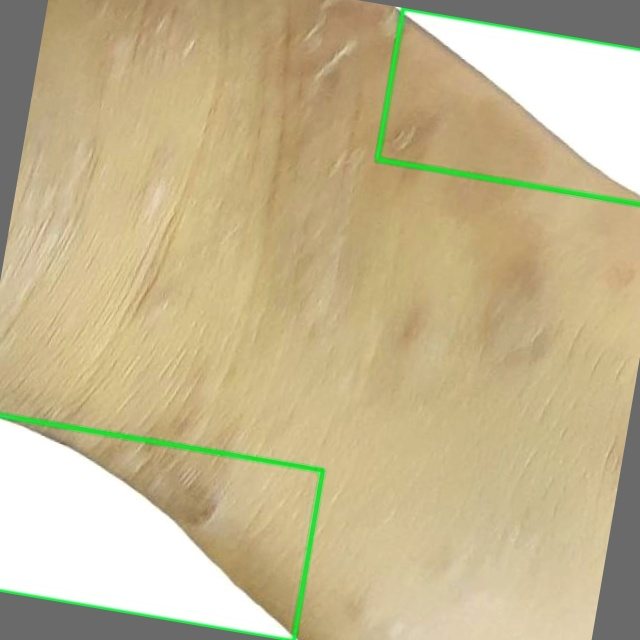Eczema: (0, 415, 322, 639), (376, 8, 639, 204)
